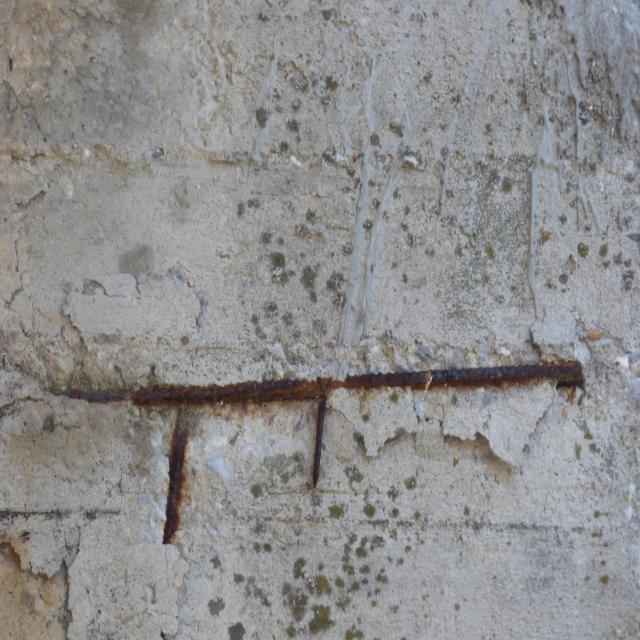Rebar: (0, 275, 637, 574)
multi-branched crack: (58, 264, 210, 372), (0, 521, 84, 640)
vertical crack: (0, 75, 54, 310)
